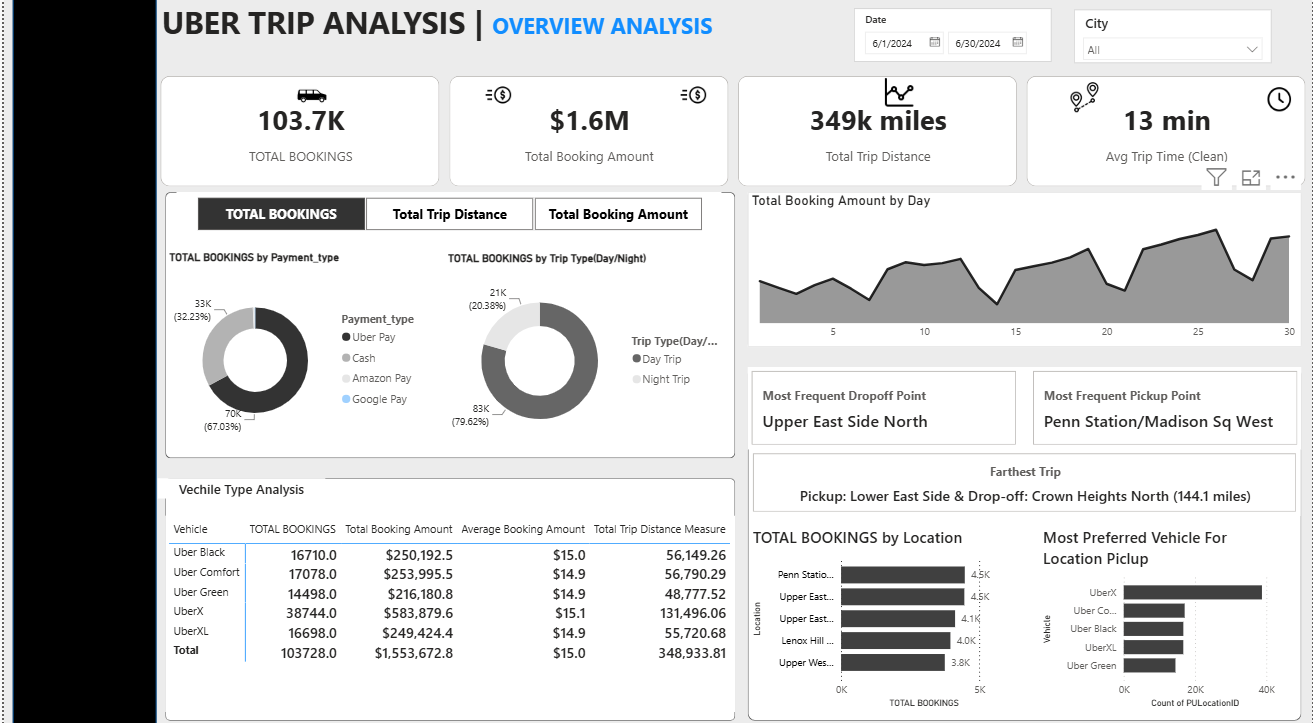

The dashboard page shown, as its layout file describes it:
{"tool":"powerbi","page":{"name":"Page 1","canvas":[1600,900],"ordinal":0},"visuals":[{"type":"shape","box":[10.7,0,175.8,900.3],"z":0},{"type":"textbox","box":[188,0,1222.8,78],"z":1000},{"type":"cardVisual","fields":{"Data":["Trip Details.TOTAL BOOKINGS","Trip Details.total booking amount","Trip Details.total trip distance","Trip Details.Avg Trip Time (Clean)"]},"box":[186,91.6,1412.8,145.3],"z":2000},{"type":"image","box":[561,99.4,87.2,40.7],"z":3000},{"type":"image","box":[1280.9,99.4,82.8,46.5],"z":4000},{"type":"image","box":[1517.4,106.1,82.8,39.2],"z":5000},{"type":"image","box":[324.1,96.3,104.7,49.4],"z":6000},{"type":"image","box":[1039.4,91.7,110.5,49.4],"z":7000},{"type":"shape","box":[197.2,238.5,697,325.6],"z":8000},{"type":"slicer","fields":{"Values":["DYANAMIC MEASURE.DYANAMIC MEASURE"]},"box":[210.9,238.5,666.4,53.5],"z":9000},{"type":"donutChart","fields":{"Category":["Trip Details.Payment_type"],"Y":["Trip Details.TOTAL BOOKINGS"]},"box":[197.2,310.3,325.6,253.7],"z":10000},{"type":"donutChart","fields":{"Category":["Trip Details.Trip Type(Day/Night)"],"Y":["Trip Details.TOTAL BOOKINGS"]},"box":[538,311.8,339.3,252.2],"z":11000},{"type":"shape","box":[197.2,588.5,697,296.5],"z":12000},{"type":"pivotTable","fields":{"Rows":["Trip Details.Vehicle"],"Values":["Trip Details.TOTAL BOOKINGS","Trip Details.Total Booking Amount","Trip Details.Average Booking Amount","Trip Details.Total Trip Distance Measure"]},"box":[197.2,634.3,697,240],"z":13000},{"type":"card","fields":{"Values":["Trip Details.Title For Grid"]},"box":[188,588.5,204.8,24.5],"z":14000},{"type":"shape","box":[909.5,238.5,677.1,189.5],"z":15000},{"type":"areaChart","fields":{"Category":["calendar table.Date.Variation.Date Hierarchy.Day"],"Y":["Trip Details.Total Booking Amount"]},"box":[909.5,238.5,677.1,189.5],"z":16000},{"type":"shape","box":[909.5,452.4,677.1,432.6],"z":17000},{"type":"cardVisual","fields":{"Data":["Trip Details.Most Frequent Dropoff Point","Trip Details.Most Frequent Pickup Point"]},"box":[909.5,452.4,677.1,100.9],"z":18000},{"type":"cardVisual","fields":{"Data":["Trip Details.Farthest Trip"]},"box":[911,553.3,674.1,81],"z":19000},{"type":"barChart","fields":{"Category":["Location Table.Location"],"Y":["Trip Details.TOTAL BOOKINGS"]},"box":[910.8,648.4,327.6,226.4],"z":20000},{"type":"barChart","title":"Most Preferred Vehicle For Location Piclup","fields":{"Category":["Trip Details.Vehicle"],"Y":["CountNonNull(Trip Details.PULocationID)"]},"box":[1265.9,648.4,293.3,226.4],"z":21000},{"type":"slicer","fields":{"Values":["calendar table.Date"]},"box":[1039.2,13.1,241.3,65.4],"z":22000},{"type":"slicer","fields":{"Values":["Location Table.City"]},"box":[1308.1,14.5,241.3,65.4],"z":23000},{"type":"image","box":[799.4,99.4,87.2,40.7],"z":23001}]}

Visuals, with their boxes in screenshot pixels (x1, y1, x2, y2), scaled from the page's 1600x900 canvas onto the 1313x723 screenshot:
shape: bbox=(9, 0, 153, 722)
textbox: bbox=(154, 0, 1158, 63)
cardVisual - Trip Details.TOTAL BOOKINGS x Trip Details.total booking amount: bbox=(153, 74, 1312, 190)
image: bbox=(460, 80, 532, 113)
image: bbox=(1051, 80, 1119, 117)
image: bbox=(1245, 85, 1312, 117)
image: bbox=(266, 77, 352, 117)
image: bbox=(853, 74, 944, 113)
shape: bbox=(162, 192, 734, 453)
slicer - DYANAMIC MEASURE.DYANAMIC MEASURE: bbox=(173, 192, 720, 235)
donutChart - Trip Details.Payment_type x Trip Details.TOTAL BOOKINGS: bbox=(162, 249, 429, 453)
donutChart - Trip Details.Trip Type(Day/Night) x Trip Details.TOTAL BOOKINGS: bbox=(441, 250, 720, 453)
shape: bbox=(162, 473, 734, 711)
pivotTable - Trip Details.Vehicle x Trip Details.TOTAL BOOKINGS: bbox=(162, 510, 734, 702)
card - Trip Details.Title For Grid: bbox=(154, 473, 322, 492)
shape: bbox=(746, 192, 1302, 344)
areaChart - calendar table.Date.Variation.Date Hierarchy.Day x Trip Details.Total Booking Amount: bbox=(746, 192, 1302, 344)
shape: bbox=(746, 363, 1302, 711)
cardVisual - Trip Details.Most Frequent Dropoff Point x Trip Details.Most Frequent Pickup Point: bbox=(746, 363, 1302, 444)
cardVisual - Trip Details.Farthest Trip: bbox=(748, 444, 1301, 510)
barChart - Location Table.Location x Trip Details.TOTAL BOOKINGS: bbox=(747, 521, 1016, 703)
"Most Preferred Vehicle For Location Piclup" barChart: bbox=(1039, 521, 1280, 703)
slicer - calendar table.Date: bbox=(853, 11, 1051, 63)
slicer - Location Table.City: bbox=(1073, 12, 1271, 64)
image: bbox=(656, 80, 728, 113)
